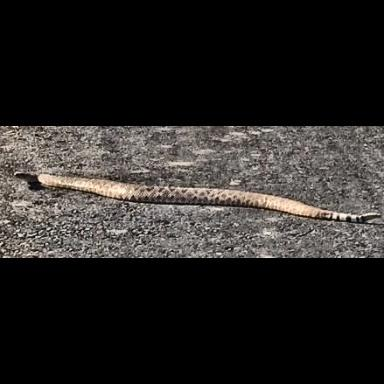snake: (21, 173, 380, 225)
